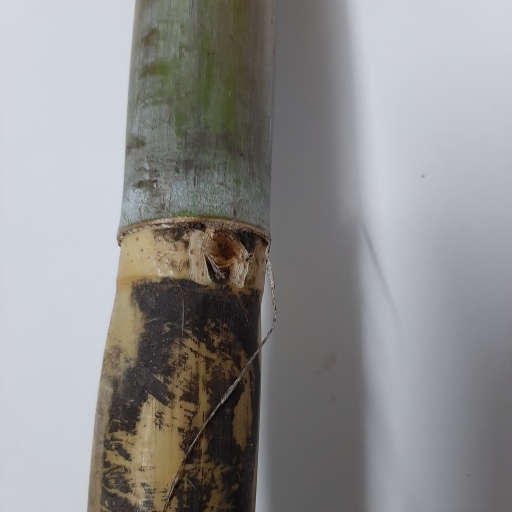Damage_Bud: (204, 227, 241, 286)
